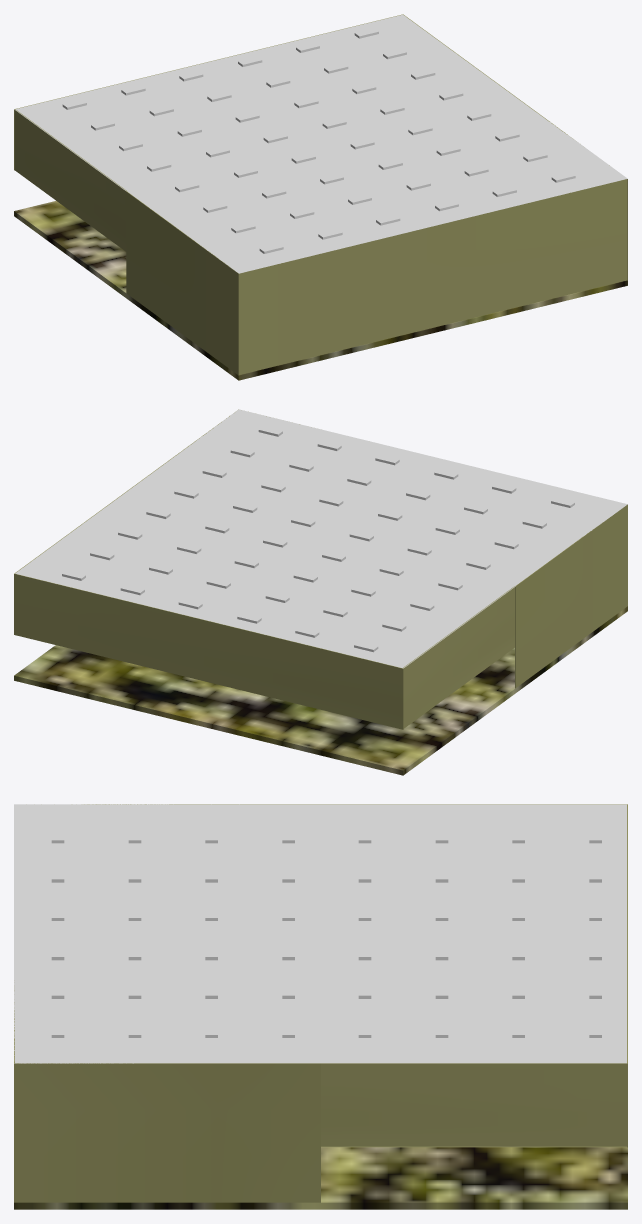
The model's file is BackroomsLevelZero - 20.fbx.
3 renders of one model, top to bottom at view 1: azimuth 30°, elevation 25°; view 2: azimuth 150°, elevation 25°; view 3: azimuth 270°, elevation 25°, orthographic. The views are drawn at different scales.
Parts seen in each view (by area): view 1: Floor.039, Wall.032, Wall.034, Floor.013, Wall.001; view 2: Floor.039, Wall.053, Floor.013, Wall.034, Wall.001; view 3: Floor.039, Wall.033, Wall.002, Floor.013.
Part boxes in pixels (<box>): Floor.039: <box>14,14,627,273</box>; Wall.032: <box>238,179,626,374</box>; Wall.034: <box>126,191,239,375</box>; Floor.013: <box>14,201,627,380</box>; Wall.001: <box>14,109,126,251</box>; Floor.039: <box>15,409,627,668</box>; Wall.053: <box>14,573,403,729</box>; Floor.013: <box>14,606,627,775</box>; Wall.034: <box>515,505,627,688</box>; Wall.001: <box>402,586,514,728</box>; Floor.039: <box>14,804,626,1063</box>; Wall.033: <box>14,1063,320,1202</box>; Wall.002: <box>321,1063,626,1147</box>; Floor.013: <box>14,1147,627,1209</box>.
Bounding box in the file's own units: 8000 × 2146 × 8000.
